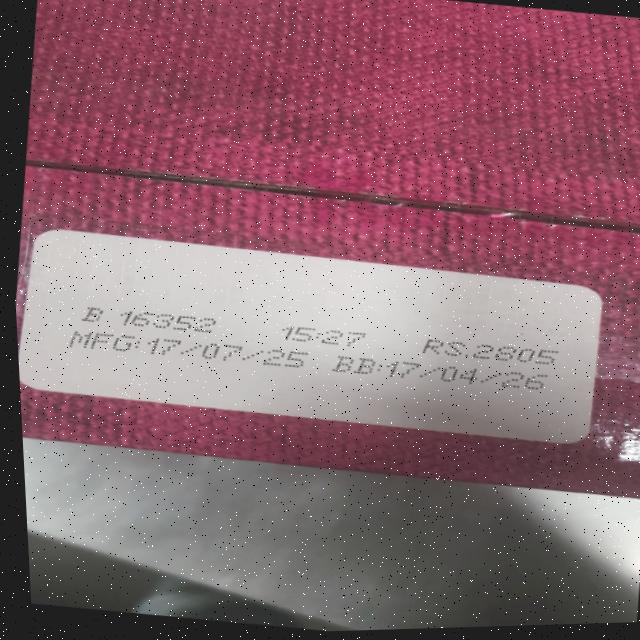BB: (333, 349, 545, 399)
Batch: (79, 300, 223, 338)
MFG: (65, 321, 310, 378)
RS: (419, 334, 561, 369)
TimeStamp: (279, 321, 369, 353)
